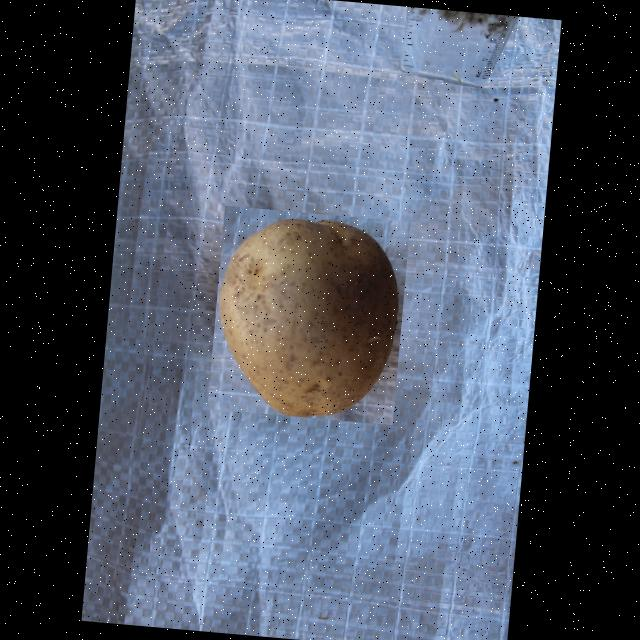Diseased-fungal potato: (206, 206, 409, 424)
